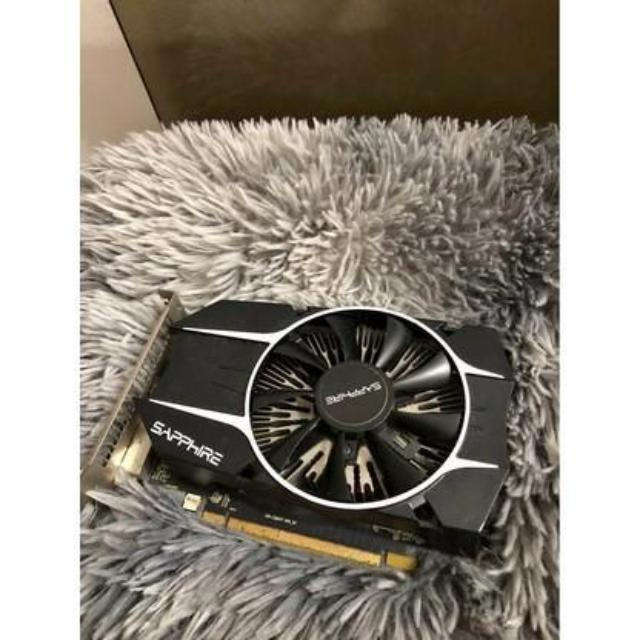GPU: (71, 285, 542, 587)
